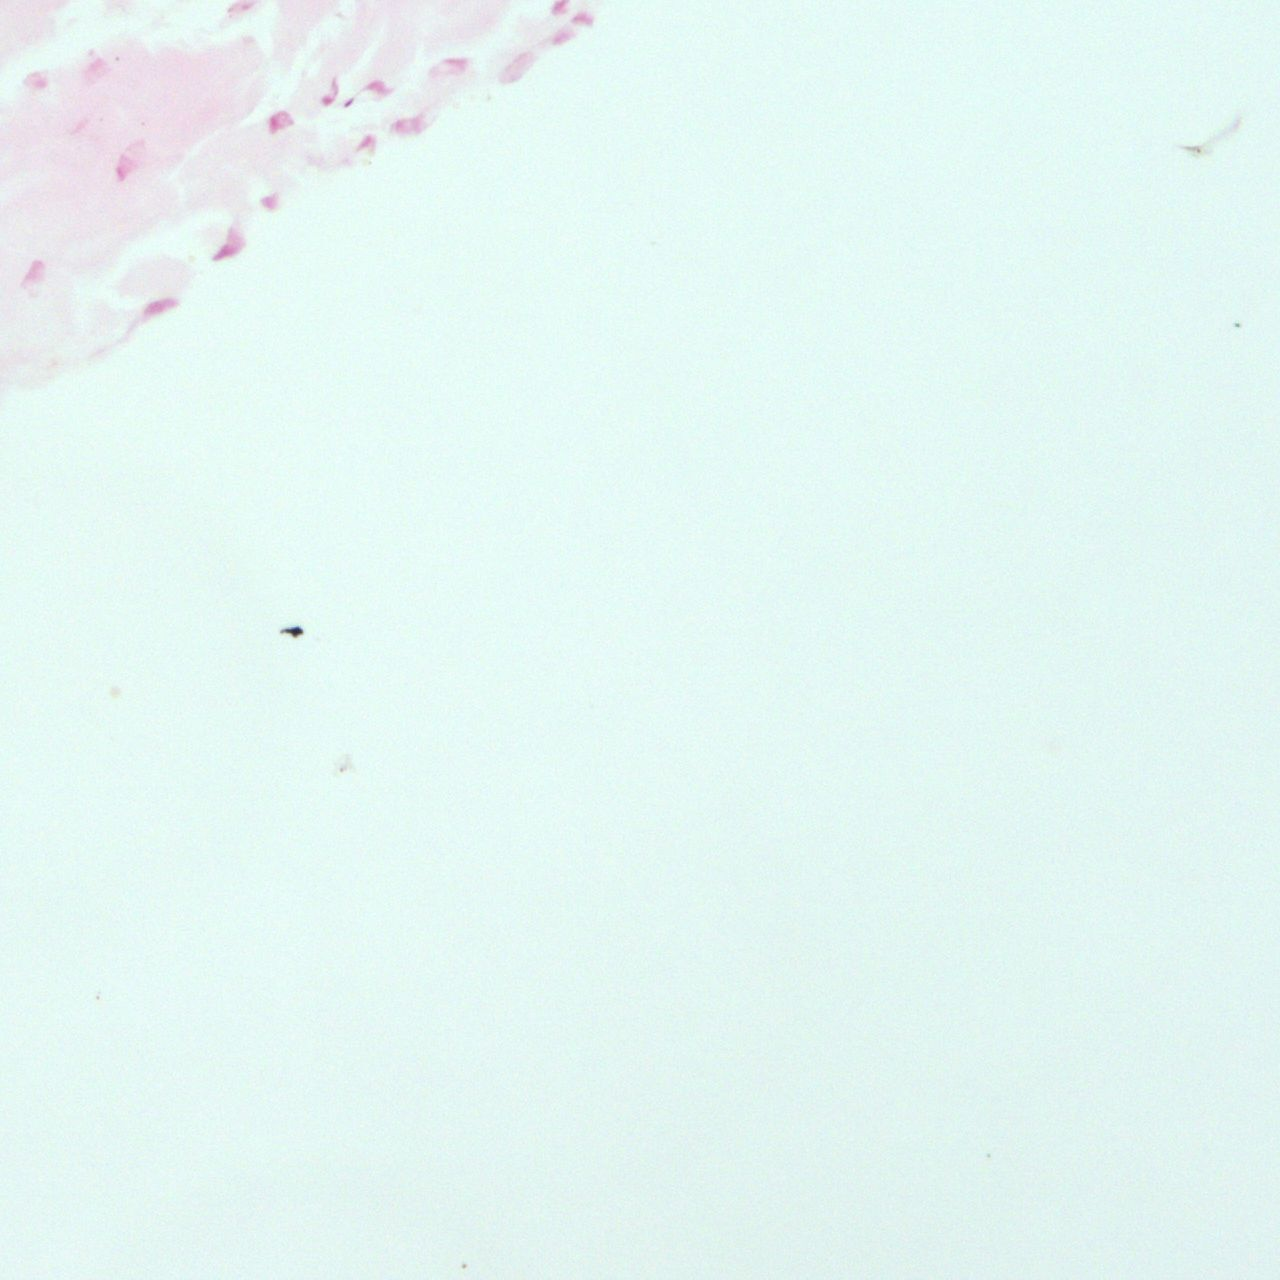dust: (279, 624, 302, 639)
nucleus-AC: (210, 224, 248, 270), (498, 47, 538, 89), (139, 291, 181, 320), (263, 107, 295, 135), (20, 256, 47, 290), (318, 75, 343, 108), (549, 23, 576, 49), (82, 55, 108, 79), (110, 157, 134, 182), (392, 117, 424, 135), (365, 80, 390, 97), (358, 132, 377, 154), (23, 72, 47, 89), (260, 195, 277, 213), (445, 57, 468, 70), (572, 11, 593, 23), (342, 96, 355, 109)
